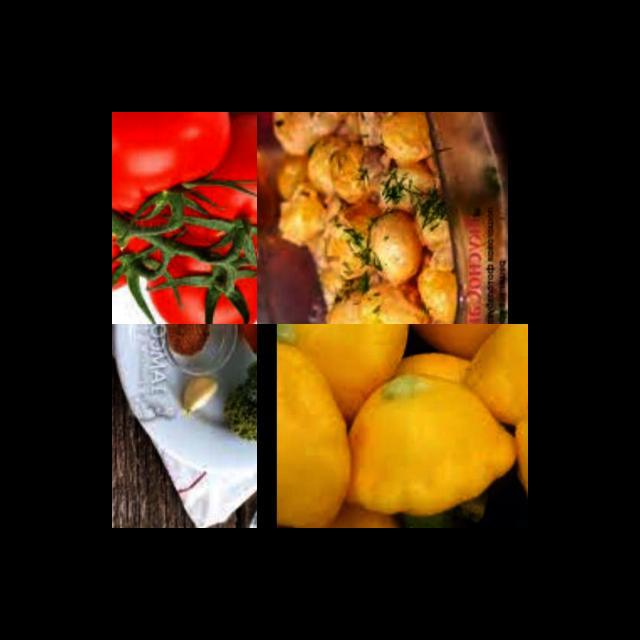garlic: (175, 374, 226, 420)
potato: (257, 112, 465, 324)
tomato: (165, 112, 257, 265), (112, 112, 228, 227), (143, 235, 257, 324), (112, 164, 162, 298)
